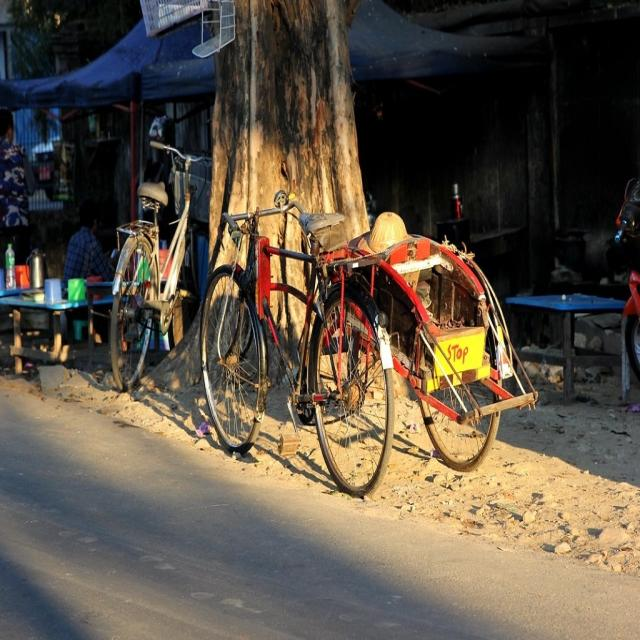Metal: (196, 205, 534, 497), (101, 141, 156, 387)
